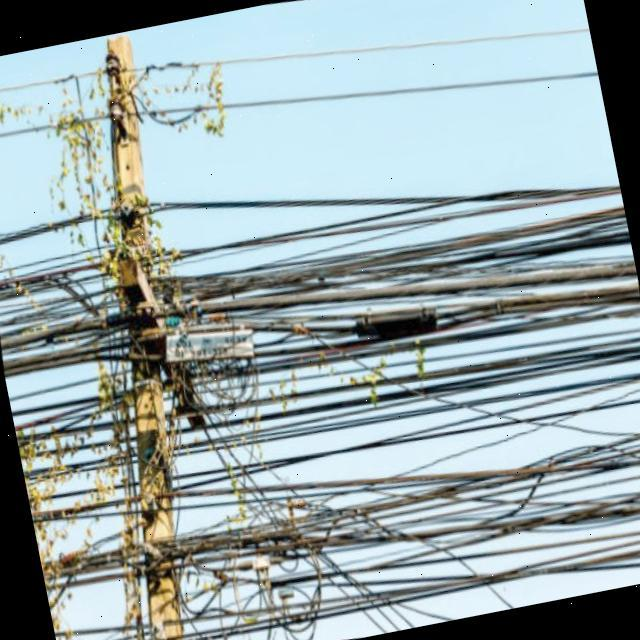critical vegetation: (27, 37, 282, 640)
